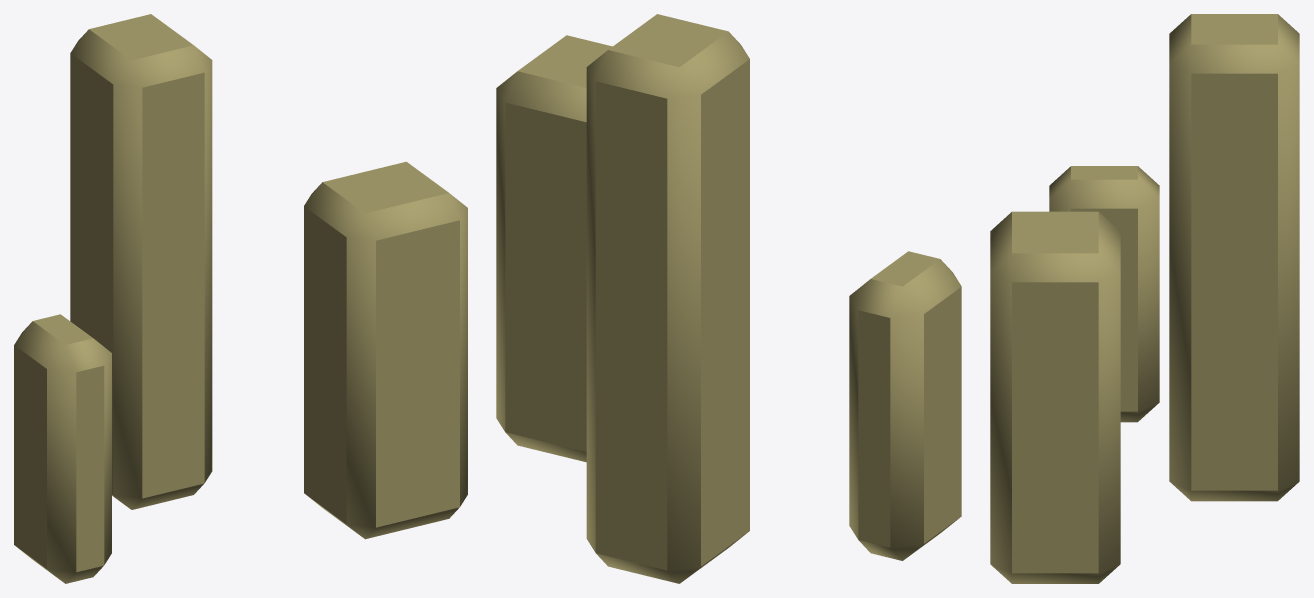
The model's file is quaternius-cube-world-grass-small.glb.
3 renders of one model, left to right at view 1: azimuth 30°, elevation 25°; view 2: azimuth 150°, elevation 25°; view 3: azimuth 270°, elevation 25°, orthographic. The views are drawn at different scales.
Visible parts, largest first — view 1: Grass_Small; view 2: Grass_Small; view 3: Grass_Small.
Part boxes in pixels (left/top/right/bottom): Grass_Small: left=14, top=14, right=467, bottom=583; Grass_Small: left=496, top=14, right=961, bottom=583; Grass_Small: left=990, top=14, right=1299, bottom=583.
Size of the model in its own units: 0.6327 by 0.6941 by 0.4265.
1 material, 1 textured.
